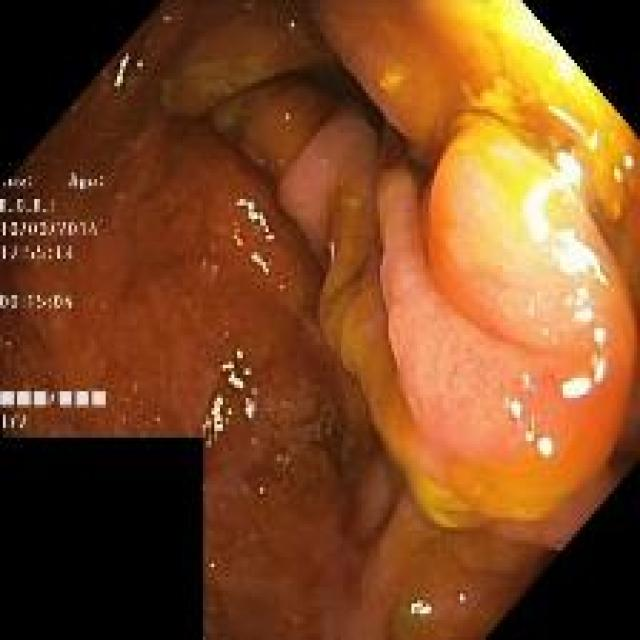Polyps: (232, 80, 638, 527)
